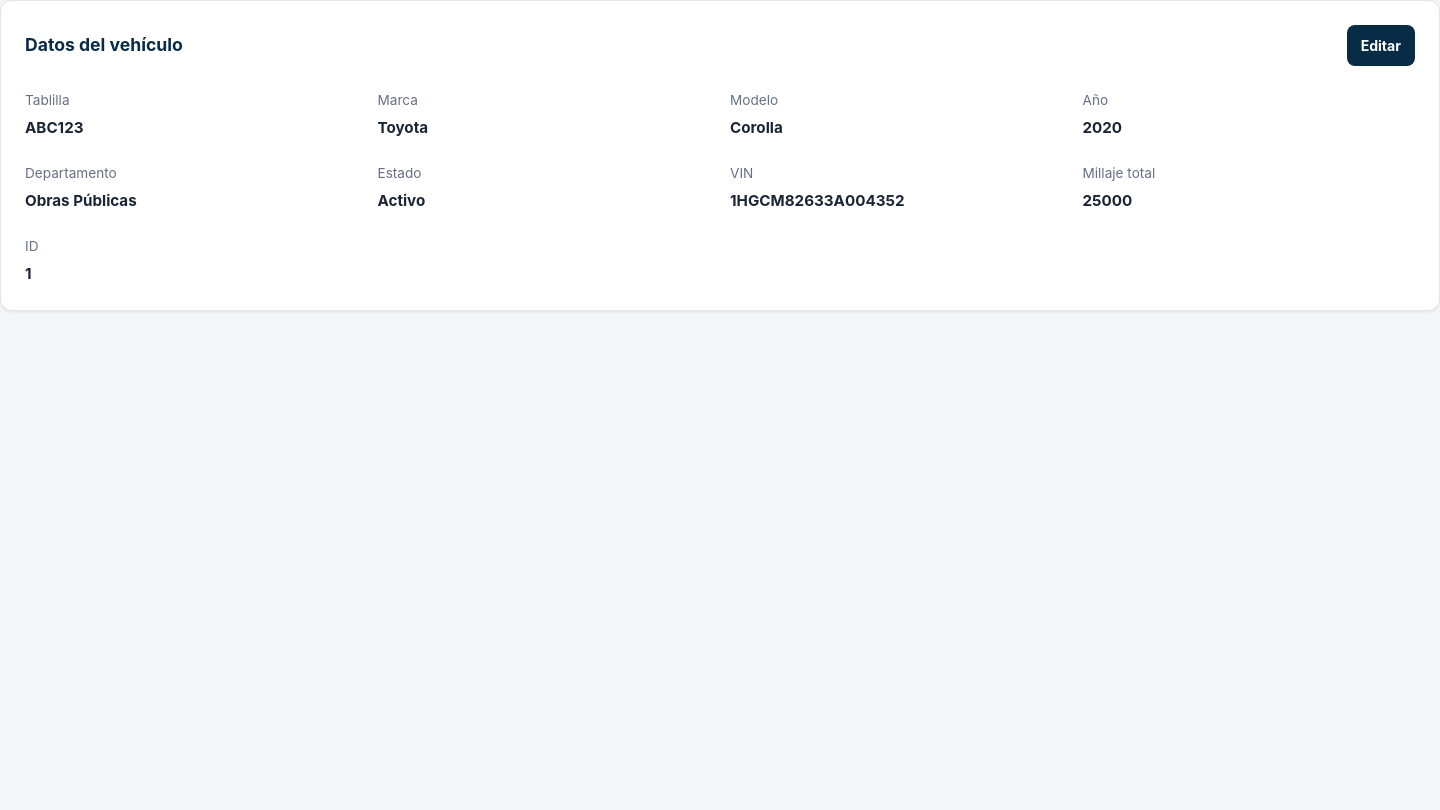
Test: Vehicle Information - Component Tests › VI-UT-FE-10 rejects invalid VINs without updating
The image size is (1440, 810).
Click the button "Editar". click: coordinates (1381, 46)
box: x1=1347 y1=25 x2=1415 y2=66
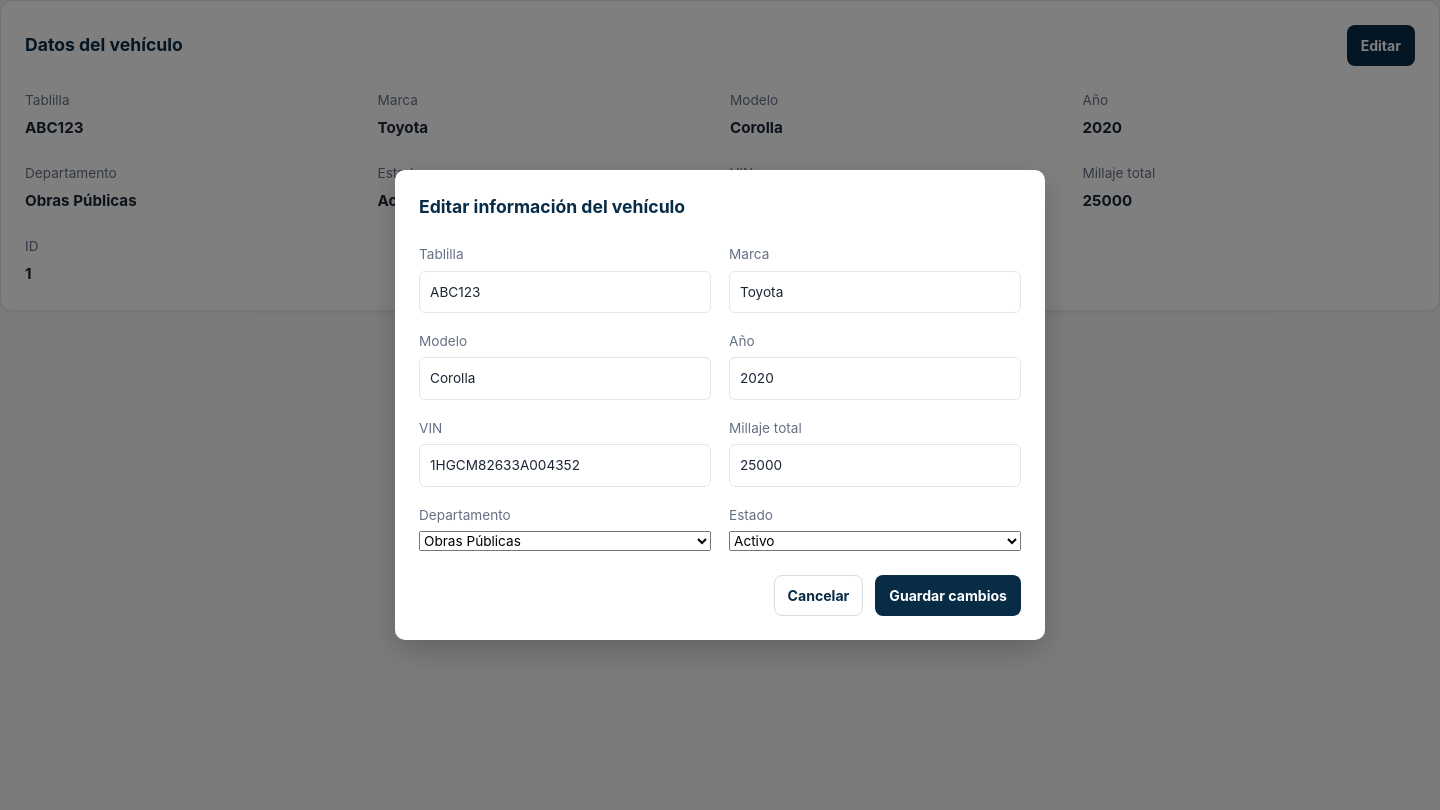
Replace the text in the field labelled "VIN" with "12345". click: coordinates (565, 465)
box: x1=419 y1=444 x2=711 y2=487
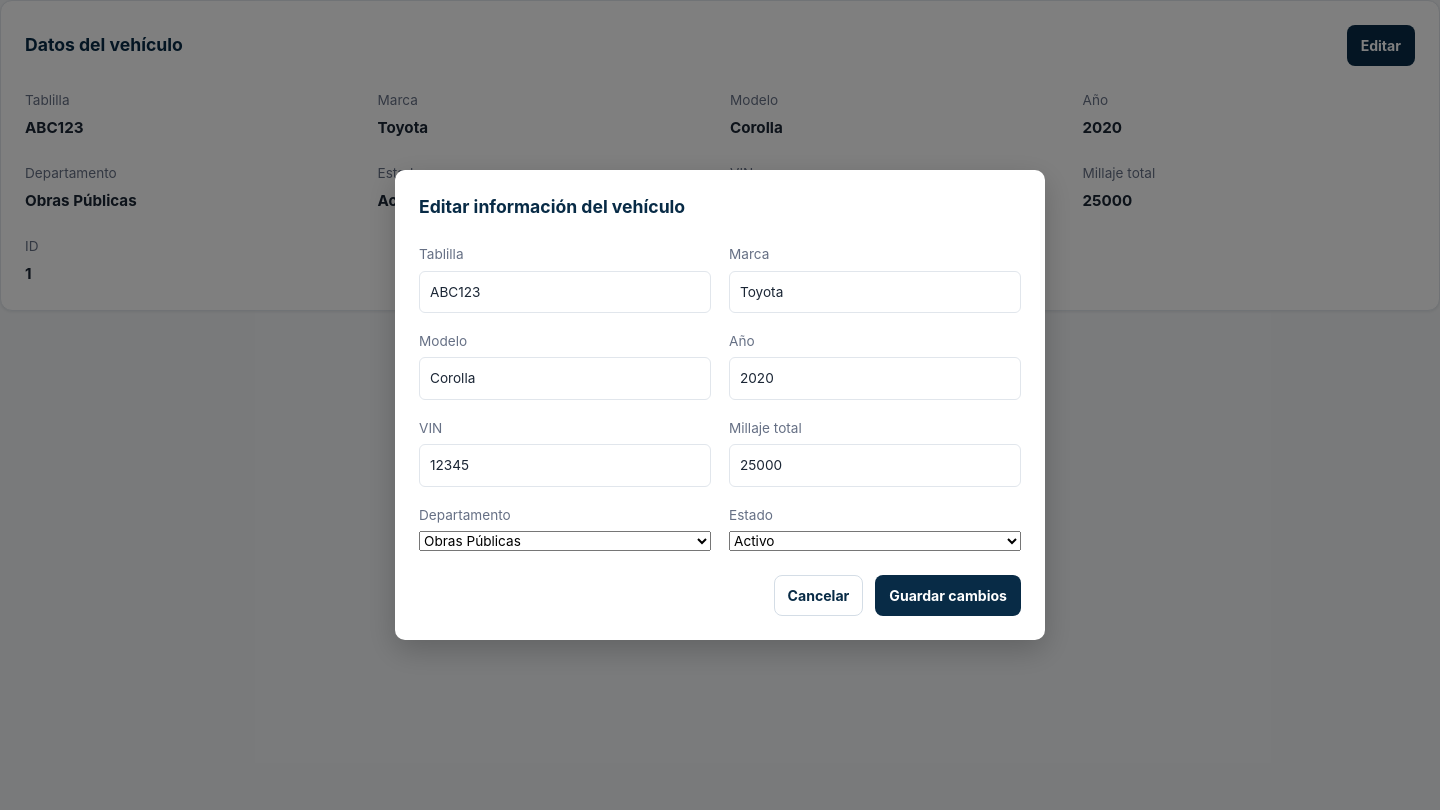
Submit the form named "Guardar cambios", box x1=419 y1=244 x2=1021 y2=616
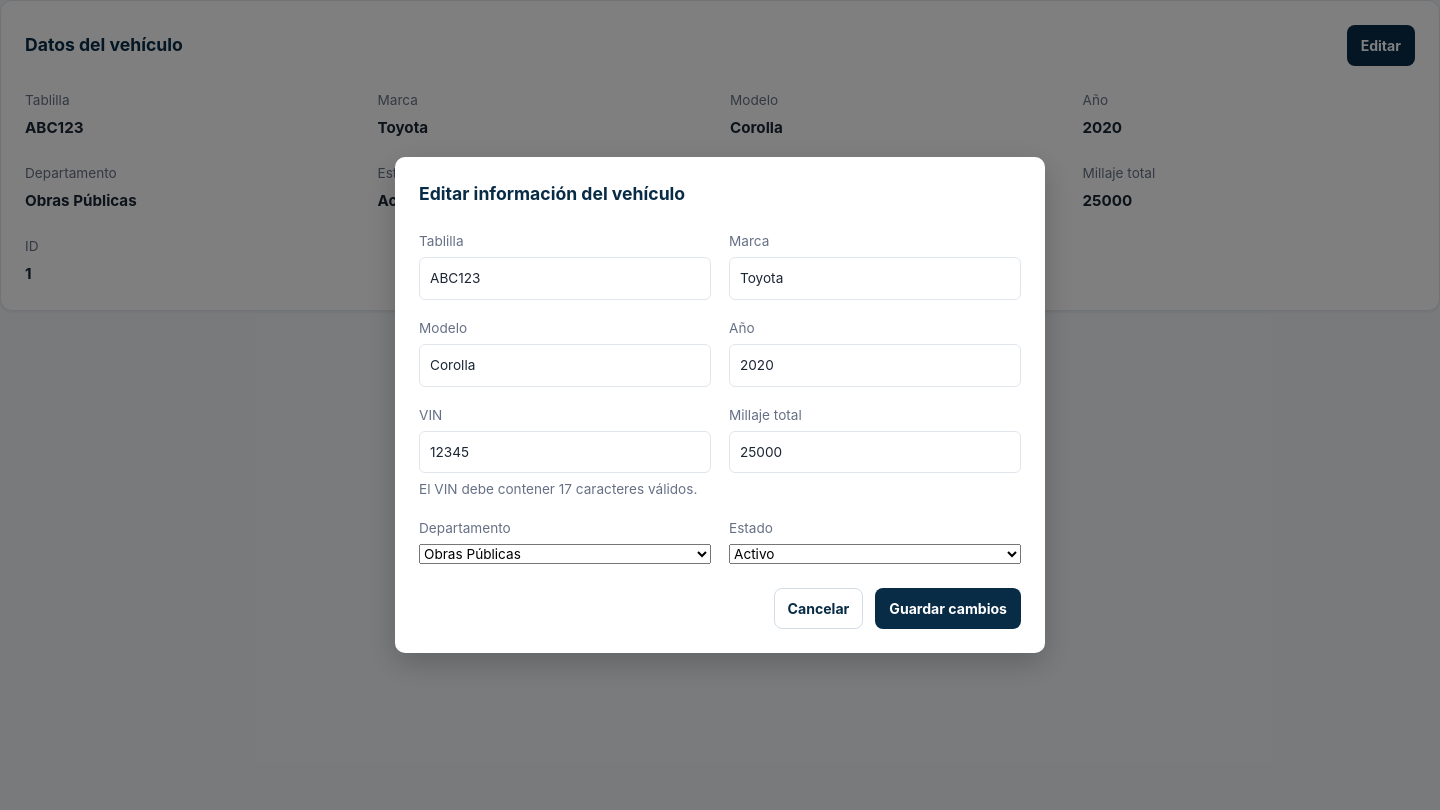
Check: the text "El VIN debe contener 17 caracteres válidos." is shown, box x1=419 y1=479 x2=711 y2=500
